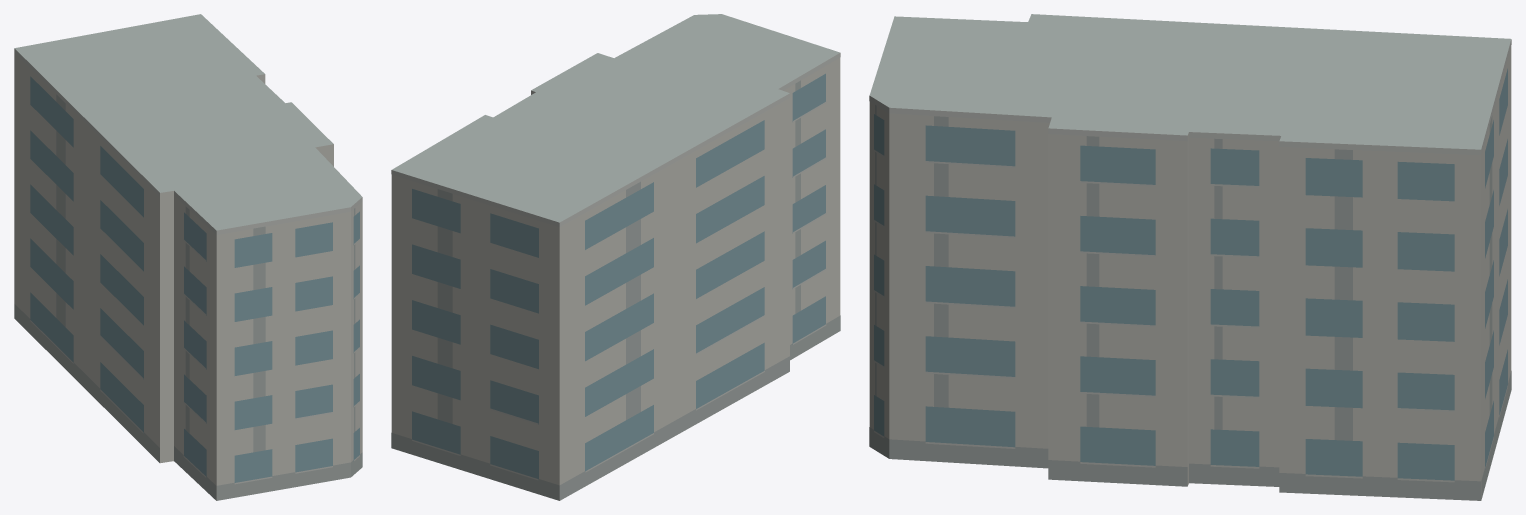
Rendered from survey-upis-32605550.glb.
3 views of the same model, side by side, from view 1: azimuth 30°, elevation 25°; view 2: azimuth 150°, elevation 25°; view 3: azimuth 270°, elevation 25° (orthographic). The views are drawn at different scales.
Visible parts, largest first — view 1: survey-upis-32605550.tmp; view 2: survey-upis-32605550.tmp; view 3: survey-upis-32605550.tmp.
Part boxes in pixels (box(x1,y1,x2,y2)): survey-upis-32605550.tmp: box(14, 14, 362, 500); survey-upis-32605550.tmp: box(391, 14, 840, 500); survey-upis-32605550.tmp: box(869, 14, 1511, 500).
Size of the model in its own units: 12.36 by 14.9 by 24.69.
